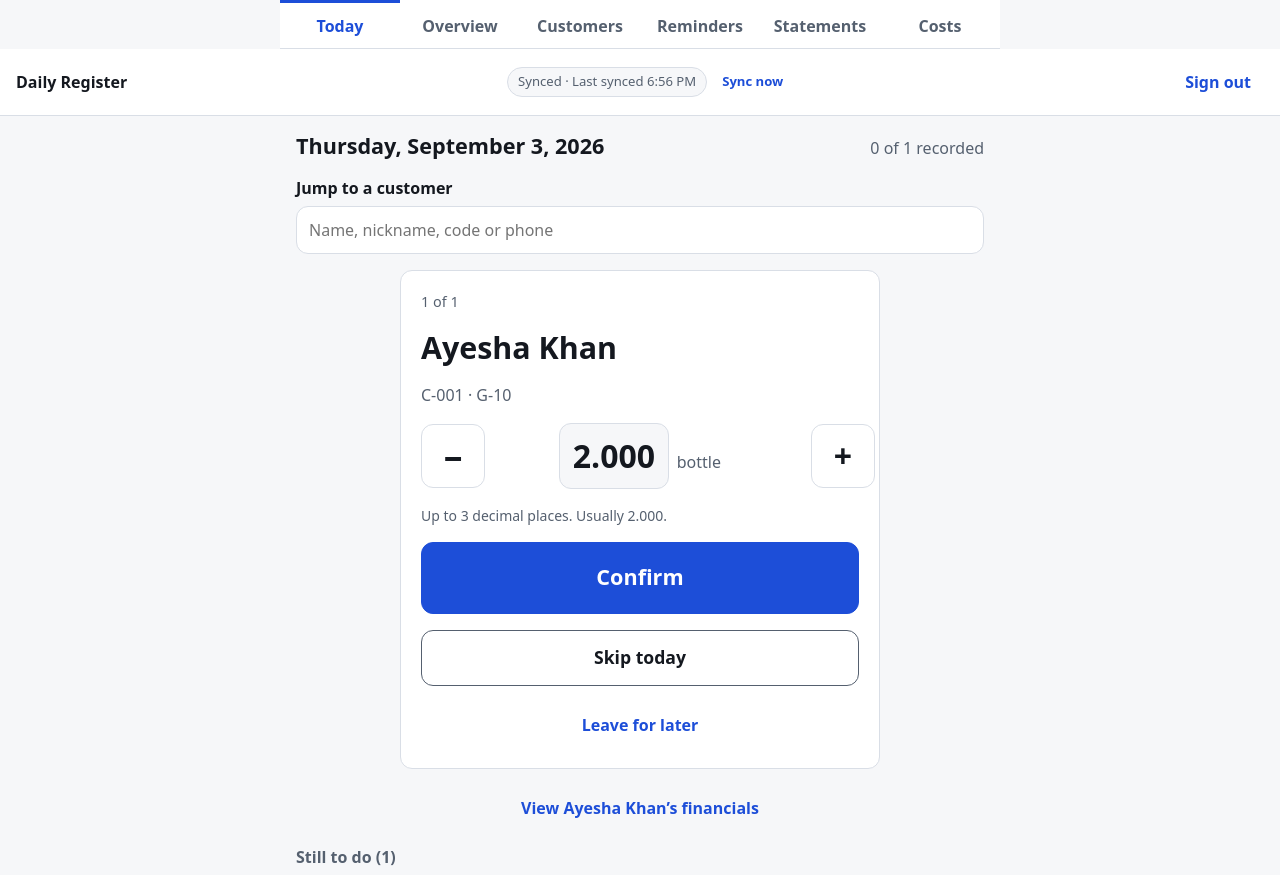
it: a mutation that meets an expired token › does not retry a second time when the replay also 401s, and keeps the work
The width and height of the screenshot is (1280, 875).
Expected: the heading "Ayesha Khan" is shown, [421, 327, 617, 368]
Click the button "Confirm" at (640, 578), box [421, 542, 859, 614]
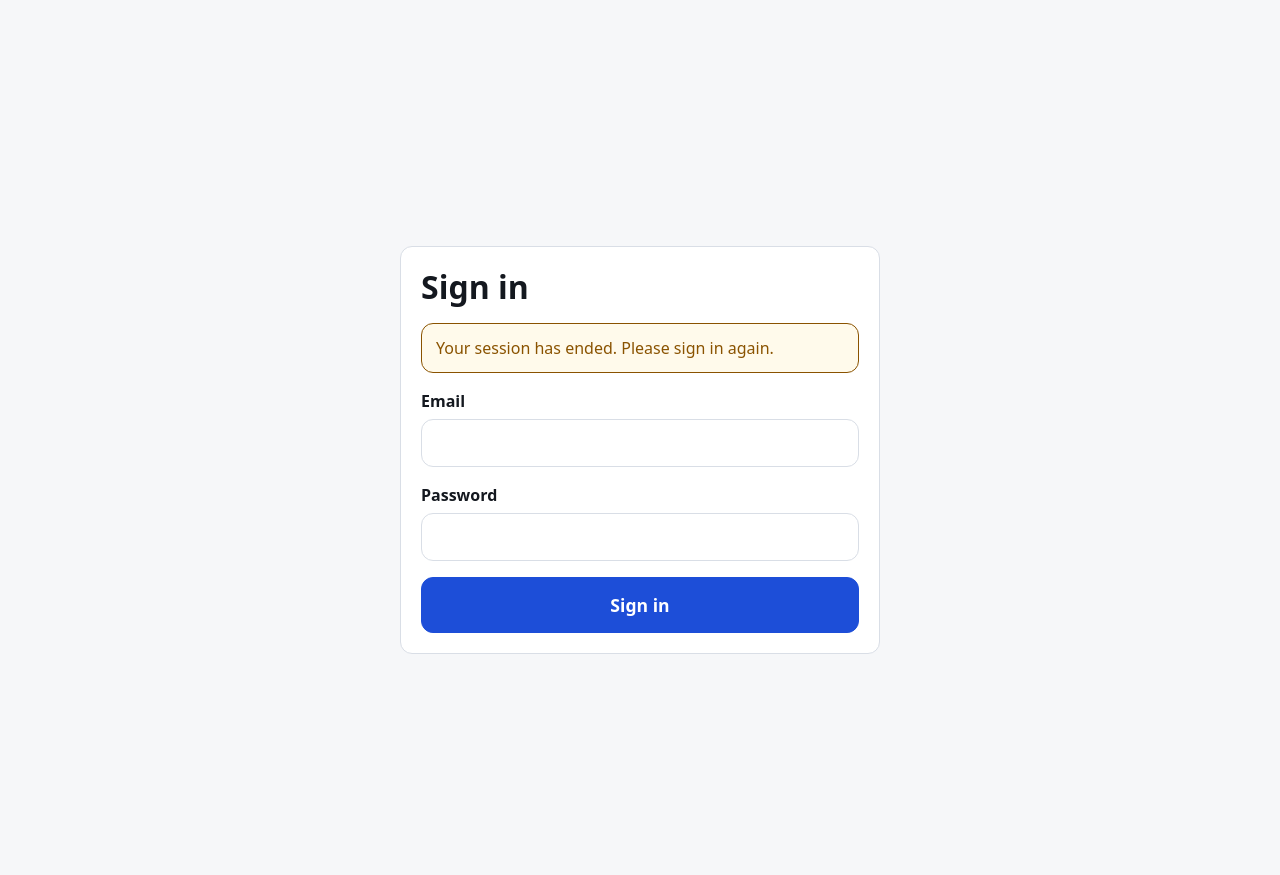
Now the heading "Sign in" is shown, box [421, 265, 529, 308]
